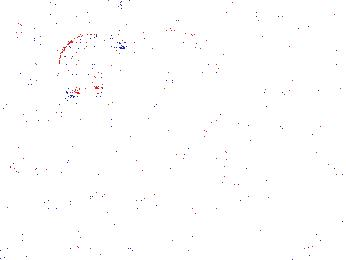moon jellyfish: (106, 29, 213, 90), (57, 33, 130, 97), (24, 24, 94, 87), (261, 28, 346, 75)
